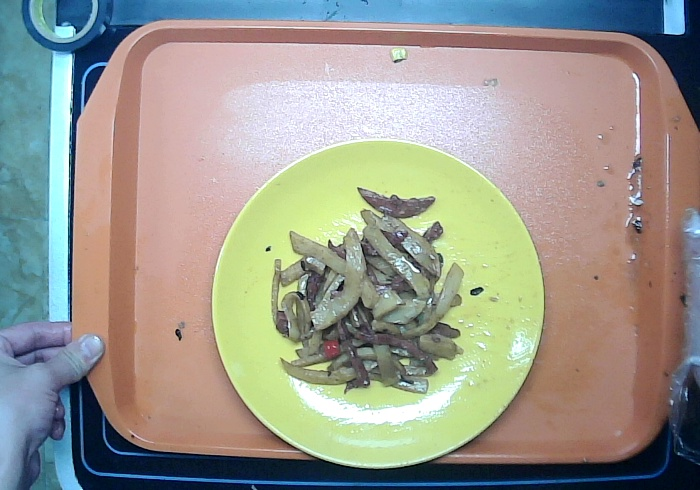HZYJPL-Huang_Se_Yuan_Pan: (210, 132, 552, 474)
